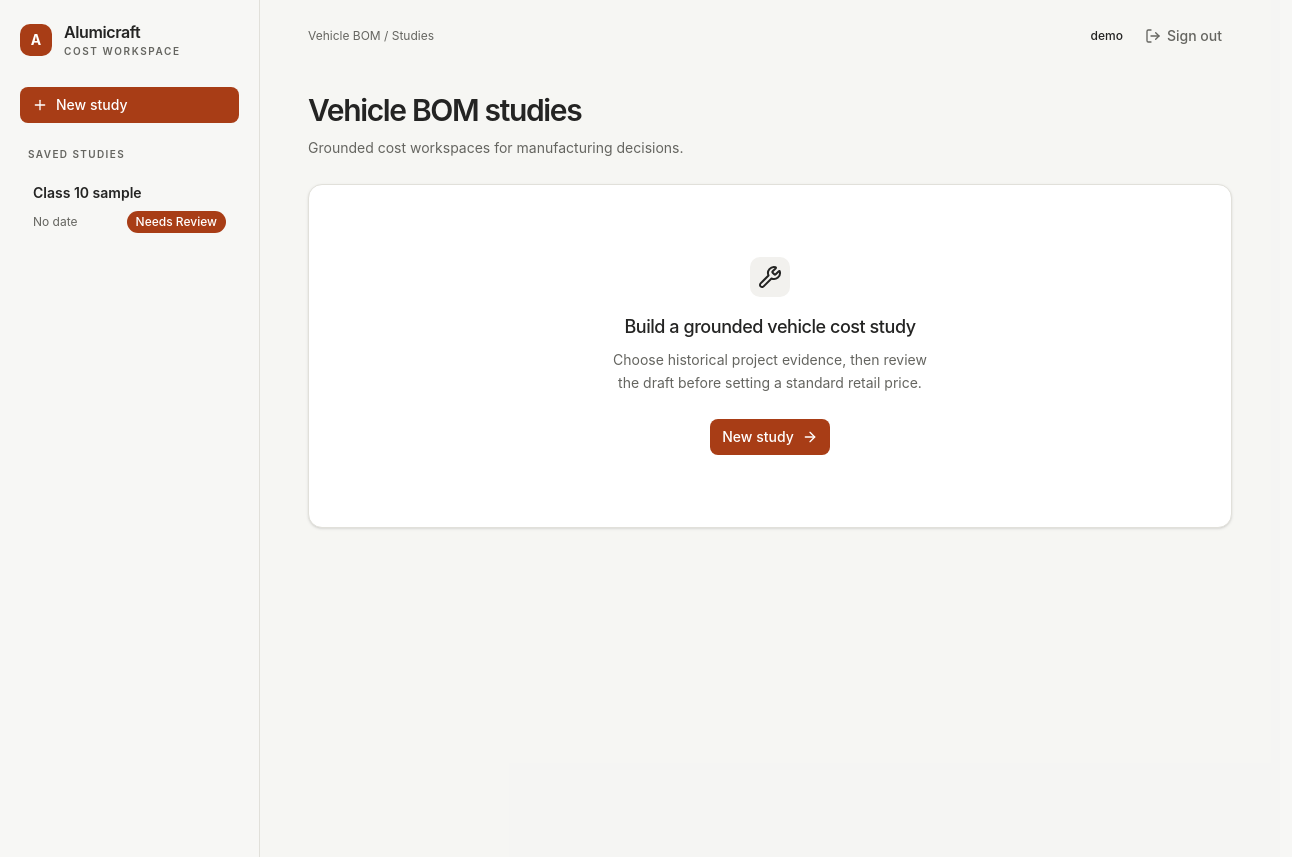
Scenario: standalone review workflow › marks an entered positive cost as known
Click the button "Class 10 sample No date Needs Review". click: [130, 208]
box: top-left (20, 170), bottom-right (239, 246)
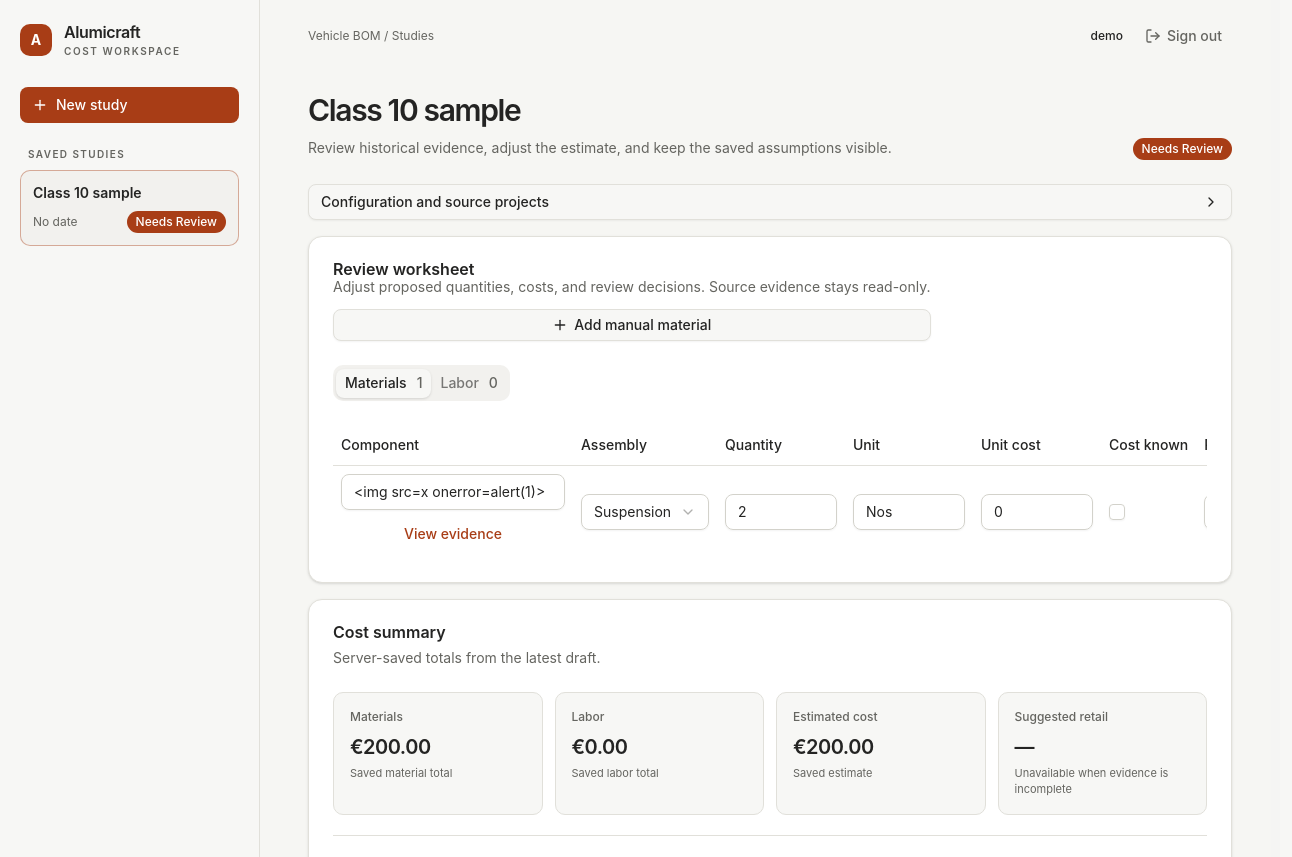
Expected: the number field named "Quantity for Component 1" is shown, top-left (725, 494), bottom-right (837, 530)
Type "25" into the number field named "Unit cost for Component 1". click: [1037, 512]
box: top-left (981, 494), bottom-right (1093, 530)
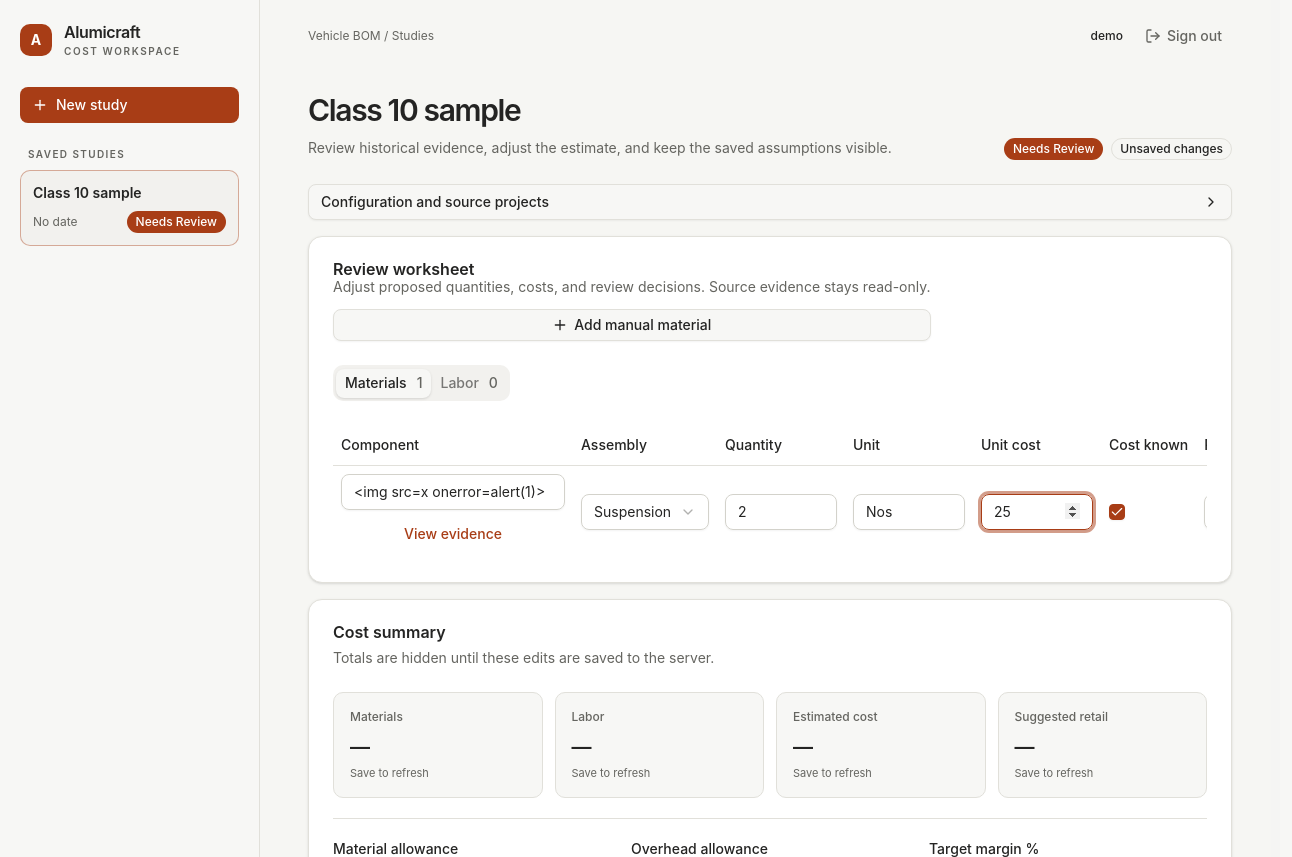
Expected: the checkbox named "Cost known for Component 1" is checked, top-left (1109, 504), bottom-right (1125, 520)
